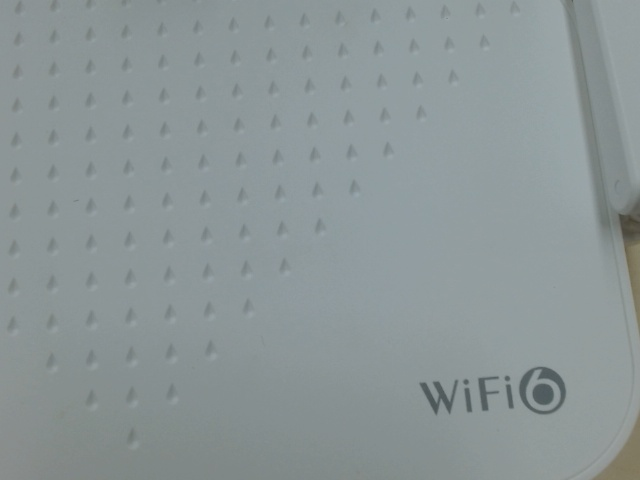AK_ZTEWIFI6: (405, 360, 581, 422)
